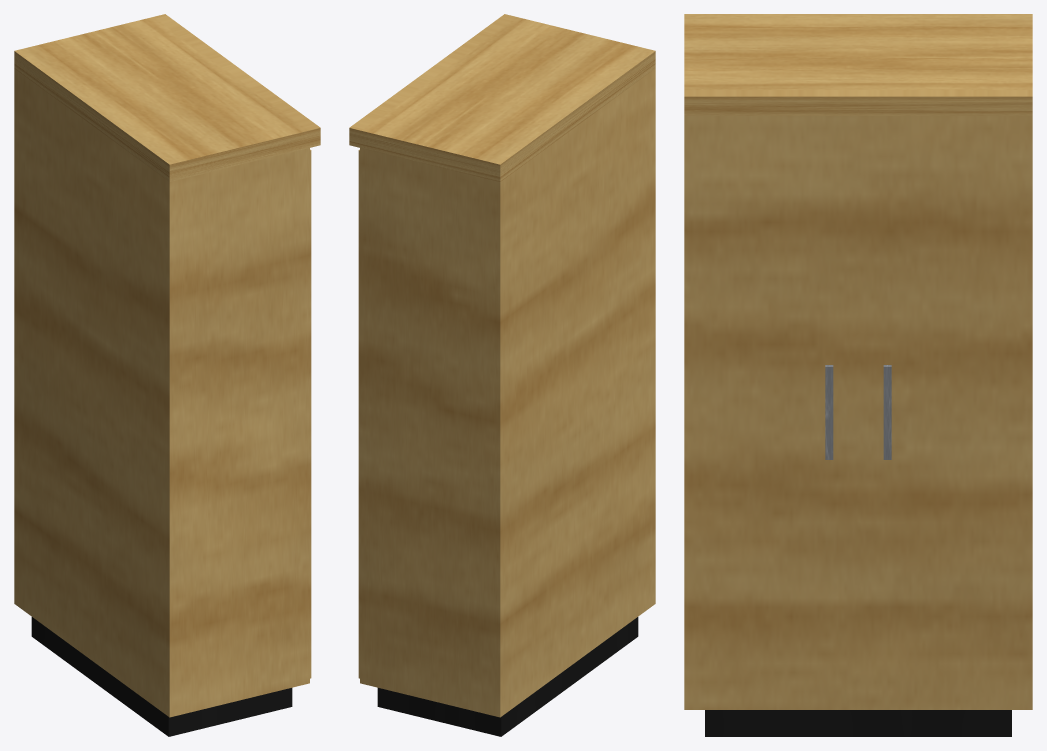
The model's file is SM_Armario .fbx.
3 views of the same model, side by side, from view 1: azimuth 30°, elevation 25°; view 2: azimuth 150°, elevation 25°; view 3: azimuth 270°, elevation 25° (orthographic). The views are drawn at different scales.
Parts seen in each view (by area): view 1: SM_Armario; view 2: SM_Armario; view 3: SM_Armario.
Boxes of the visible parts, x1=… form: SM_Armario: x1=14, y1=14, x2=320, y2=736; SM_Armario: x1=349, y1=14, x2=655, y2=736; SM_Armario: x1=684, y1=14, x2=1032, y2=736.
Bounding box in the file's own units: 42.81 × 157 × 76.31.
